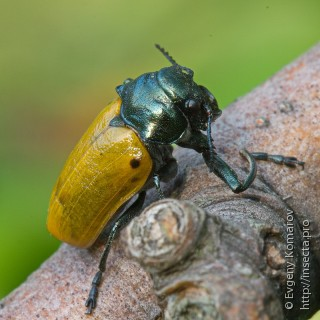Labidostomis_longimana: (39, 41, 309, 318)
